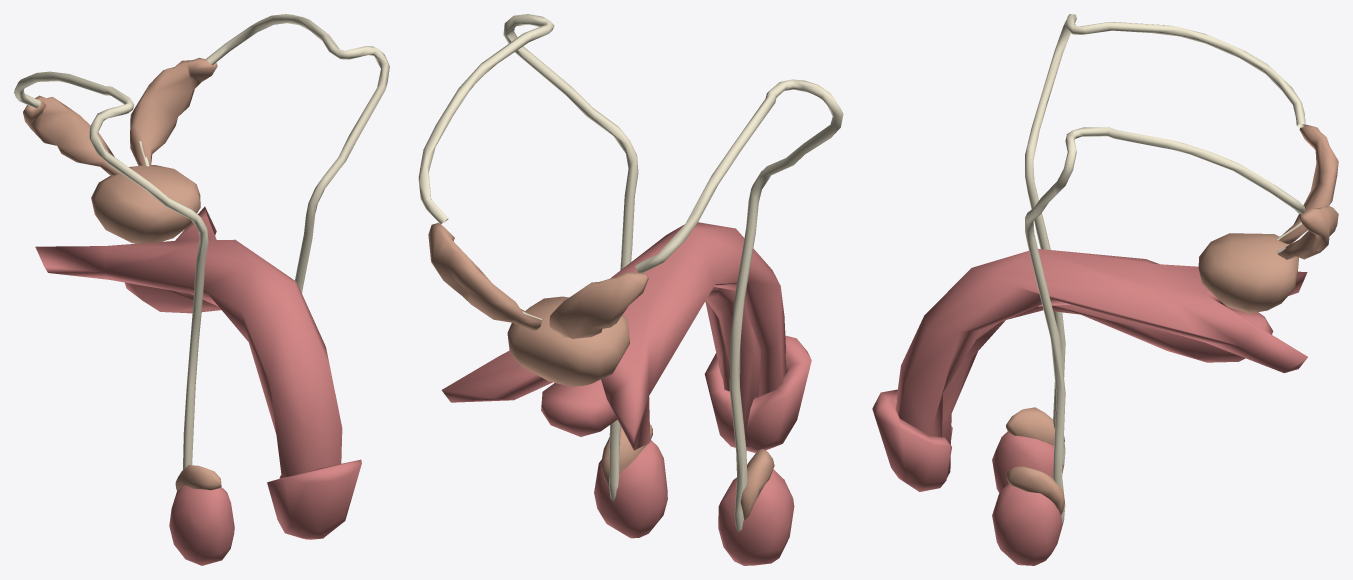
Rendered from adult_male.reproductive.LOD2.glb.
3 views of the same model, side by side, from view 1: azimuth 30°, elevation 25°; view 2: azimuth 150°, elevation 25°; view 3: azimuth 270°, elevation 25° (orthographic). The views are drawn at different scales.
Visible parts, largest first — view 1: ADULT.MALE.REPRODUCTIVE.CORPUS_CAVERNOSUM_OF_PENIS, ADULT.MALE.REPRODUCTIVE.PROSTATE, ADULT.MALE.REPRODUCTIVE.DUCTUS_DEFERENS.R, ADULT.MALE.REPRODUCTIVE.GLANS_PENIS, ADULT.MALE.REPRODUCTIVE.SEMINAL_GLAND.L, ADULT.MALE.REPRODUCTIVE.DUCTUS_DEFERENS.L, ADULT.MALE.REPRODUCTIVE.TESTIS, ADULT.MALE.REPRODUCTIVE.SEMINAL_GLAND.R, ADULT.MALE.REPRODUCTIVE.CORPUS_SPONGIOSUM_OF_PENIS, ADULT.MALE.REPRODUCTIVE.EPIDIDYMIS.R; view 2: ADULT.MALE.REPRODUCTIVE.CORPUS_CAVERNOSUM_OF_PENIS, ADULT.MALE.REPRODUCTIVE.DUCTUS_DEFERENS.R, ADULT.MALE.REPRODUCTIVE.DUCTUS_DEFERENS.L, ADULT.MALE.REPRODUCTIVE.PROSTATE, ADULT.MALE.REPRODUCTIVE.CORPUS_SPONGIOSUM_OF_PENIS, ADULT.MALE.REPRODUCTIVE.GLANS_PENIS, ADULT.MALE.REPRODUCTIVE.TESTIS, ADULT.MALE.REPRODUCTIVE.TESTIS.L, ADULT.MALE.REPRODUCTIVE.SEMINAL_GLAND.L, ADULT.MALE.REPRODUCTIVE.SEMINAL_GLAND.R, ADULT.MALE.REPRODUCTIVE.EPIDIDYMIS.R, ADULT.MALE.REPRODUCTIVE.EPIDIDYMIS.L; view 3: ADULT.MALE.REPRODUCTIVE.CORPUS_CAVERNOSUM_OF_PENIS, ADULT.MALE.REPRODUCTIVE.PROSTATE, ADULT.MALE.REPRODUCTIVE.DUCTUS_DEFERENS.L, ADULT.MALE.REPRODUCTIVE.DUCTUS_DEFERENS.R, ADULT.MALE.REPRODUCTIVE.CORPUS_SPONGIOSUM_OF_PENIS, ADULT.MALE.REPRODUCTIVE.GLANS_PENIS, ADULT.MALE.REPRODUCTIVE.TESTIS.L, ADULT.MALE.REPRODUCTIVE.SEMINAL_GLAND.R, ADULT.MALE.REPRODUCTIVE.TESTIS, ADULT.MALE.REPRODUCTIVE.SEMINAL_GLAND.L, ADULT.MALE.REPRODUCTIVE.EPIDIDYMIS.L, ADULT.MALE.REPRODUCTIVE.EPIDIDYMIS.R.
Part boxes in pixels (x1=…): ADULT.MALE.REPRODUCTIVE.CORPUS_CAVERNOSUM_OF_PENIS: x1=35, y1=206, x2=342, y2=537; ADULT.MALE.REPRODUCTIVE.PROSTATE: x1=91, y1=165, x2=200, y2=243; ADULT.MALE.REPRODUCTIVE.DUCTUS_DEFERENS.R: x1=14, y1=71, x2=208, y2=469; ADULT.MALE.REPRODUCTIVE.GLANS_PENIS: x1=267, y1=459, x2=361, y2=539; ADULT.MALE.REPRODUCTIVE.SEMINAL_GLAND.L: x1=130, y1=57, x2=217, y2=166; ADULT.MALE.REPRODUCTIVE.DUCTUS_DEFERENS.L: x1=206, y1=14, x2=389, y2=292; ADULT.MALE.REPRODUCTIVE.TESTIS: x1=169, y1=485, x2=234, y2=565; ADULT.MALE.REPRODUCTIVE.SEMINAL_GLAND.R: x1=23, y1=95, x2=119, y2=176; ADULT.MALE.REPRODUCTIVE.CORPUS_SPONGIOSUM_OF_PENIS: x1=125, y1=282, x2=220, y2=313; ADULT.MALE.REPRODUCTIVE.EPIDIDYMIS.R: x1=175, y1=465, x2=221, y2=490; ADULT.MALE.REPRODUCTIVE.CORPUS_CAVERNOSUM_OF_PENIS: x1=441, y1=222, x2=786, y2=450; ADULT.MALE.REPRODUCTIVE.DUCTUS_DEFERENS.R: x1=635, y1=79, x2=843, y2=532; ADULT.MALE.REPRODUCTIVE.DUCTUS_DEFERENS.L: x1=418, y1=14, x2=638, y2=501; ADULT.MALE.REPRODUCTIVE.PROSTATE: x1=507, y1=296, x2=629, y2=386; ADULT.MALE.REPRODUCTIVE.CORPUS_SPONGIOSUM_OF_PENIS: x1=541, y1=287, x2=760, y2=447; ADULT.MALE.REPRODUCTIVE.GLANS_PENIS: x1=704, y1=335, x2=811, y2=453; ADULT.MALE.REPRODUCTIVE.TESTIS: x1=718, y1=469, x2=794, y2=565; ADULT.MALE.REPRODUCTIVE.TESTIS.L: x1=594, y1=440, x2=667, y2=538; ADULT.MALE.REPRODUCTIVE.SEMINAL_GLAND.L: x1=428, y1=222, x2=541, y2=330; ADULT.MALE.REPRODUCTIVE.SEMINAL_GLAND.R: x1=549, y1=272, x2=648, y2=338; ADULT.MALE.REPRODUCTIVE.EPIDIDYMIS.R: x1=740, y1=449, x2=774, y2=520; ADULT.MALE.REPRODUCTIVE.EPIDIDYMIS.L: x1=601, y1=424, x2=652, y2=486; ADULT.MALE.REPRODUCTIVE.CORPUS_CAVERNOSUM_OF_PENIS: x1=896, y1=249, x2=1307, y2=437; ADULT.MALE.REPRODUCTIVE.PROSTATE: x1=1198, y1=233, x2=1298, y2=313; ADULT.MALE.REPRODUCTIVE.DUCTUS_DEFERENS.L: x1=1025, y1=127, x2=1305, y2=523; ADULT.MALE.REPRODUCTIVE.DUCTUS_DEFERENS.R: x1=1025, y1=14, x2=1305, y2=467; ADULT.MALE.REPRODUCTIVE.CORPUS_SPONGIOSUM_OF_PENIS: x1=942, y1=304, x2=1273, y2=477; ADULT.MALE.REPRODUCTIVE.GLANS_PENIS: x1=872, y1=389, x2=952, y2=491; ADULT.MALE.REPRODUCTIVE.TESTIS.L: x1=992, y1=483, x2=1062, y2=565; ADULT.MALE.REPRODUCTIVE.SEMINAL_GLAND.R: x1=1279, y1=124, x2=1338, y2=244; ADULT.MALE.REPRODUCTIVE.TESTIS: x1=992, y1=431, x2=1063, y2=493; ADULT.MALE.REPRODUCTIVE.SEMINAL_GLAND.L: x1=1278, y1=205, x2=1338, y2=259; ADULT.MALE.REPRODUCTIVE.EPIDIDYMIS.L: x1=1006, y1=466, x2=1064, y2=515; ADULT.MALE.REPRODUCTIVE.EPIDIDYMIS.R: x1=1006, y1=407, x2=1064, y2=445.
Size of the model in its own units: 0.1125 by 0.1656 by 0.1512.
